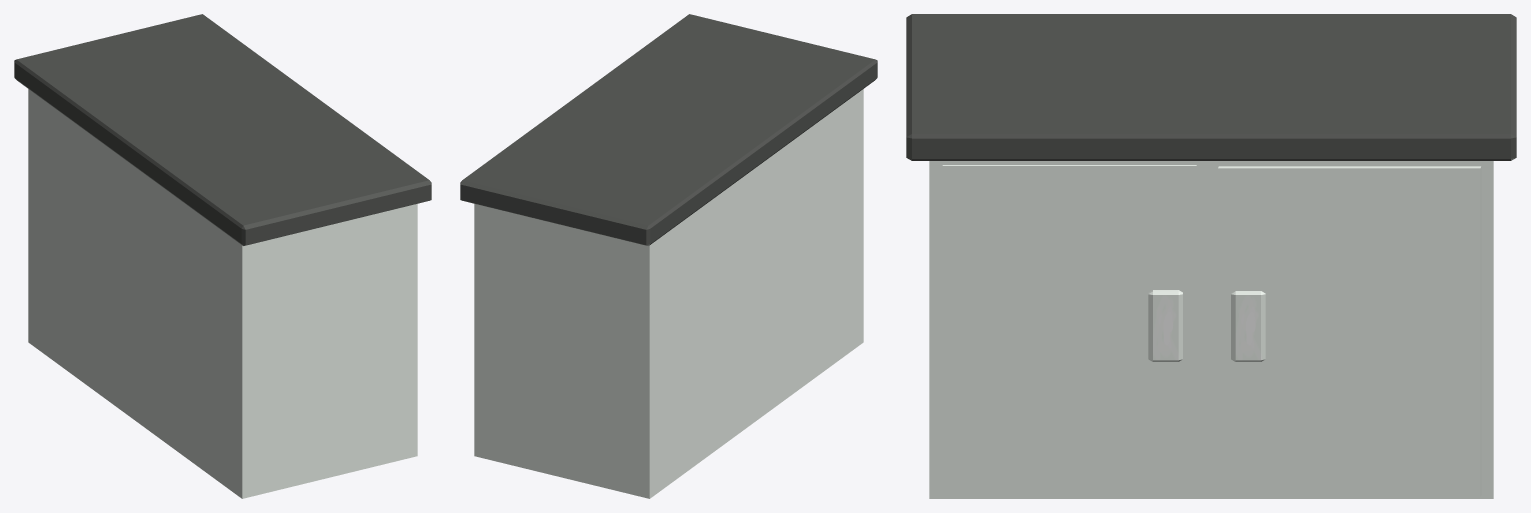
File: balcao.glb
3 renders of one model, left to right at view 1: azimuth 30°, elevation 25°; view 2: azimuth 150°, elevation 25°; view 3: azimuth 270°, elevation 25°, orthographic. The views are drawn at different scales.
Visible parts, largest first — view 1: Tampao; view 2: Tampao; view 3: Tampao.
Part boxes in pixels (x1,y1,x2,y2): Tampao: [14, 14, 431, 498]; Tampao: [460, 14, 877, 498]; Tampao: [906, 14, 1516, 498].
Bounding box in the file's own units: 4.12 × 5.8 × 8.71.
2 materials, 2 textured.
